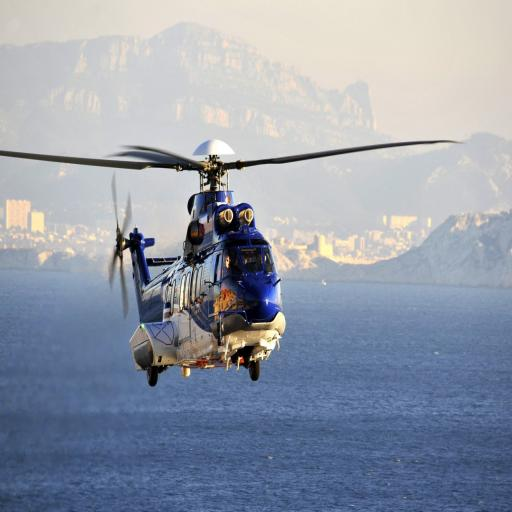helicopter: (38, 116, 425, 401)
